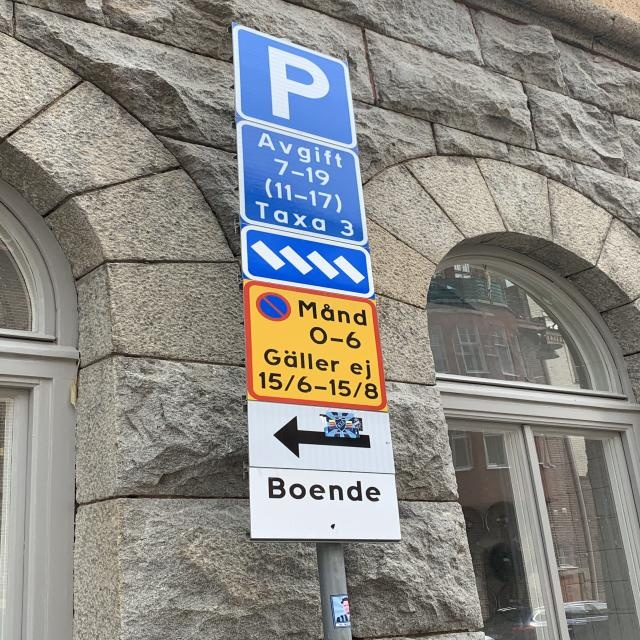P-skylt: (225, 17, 366, 152)
